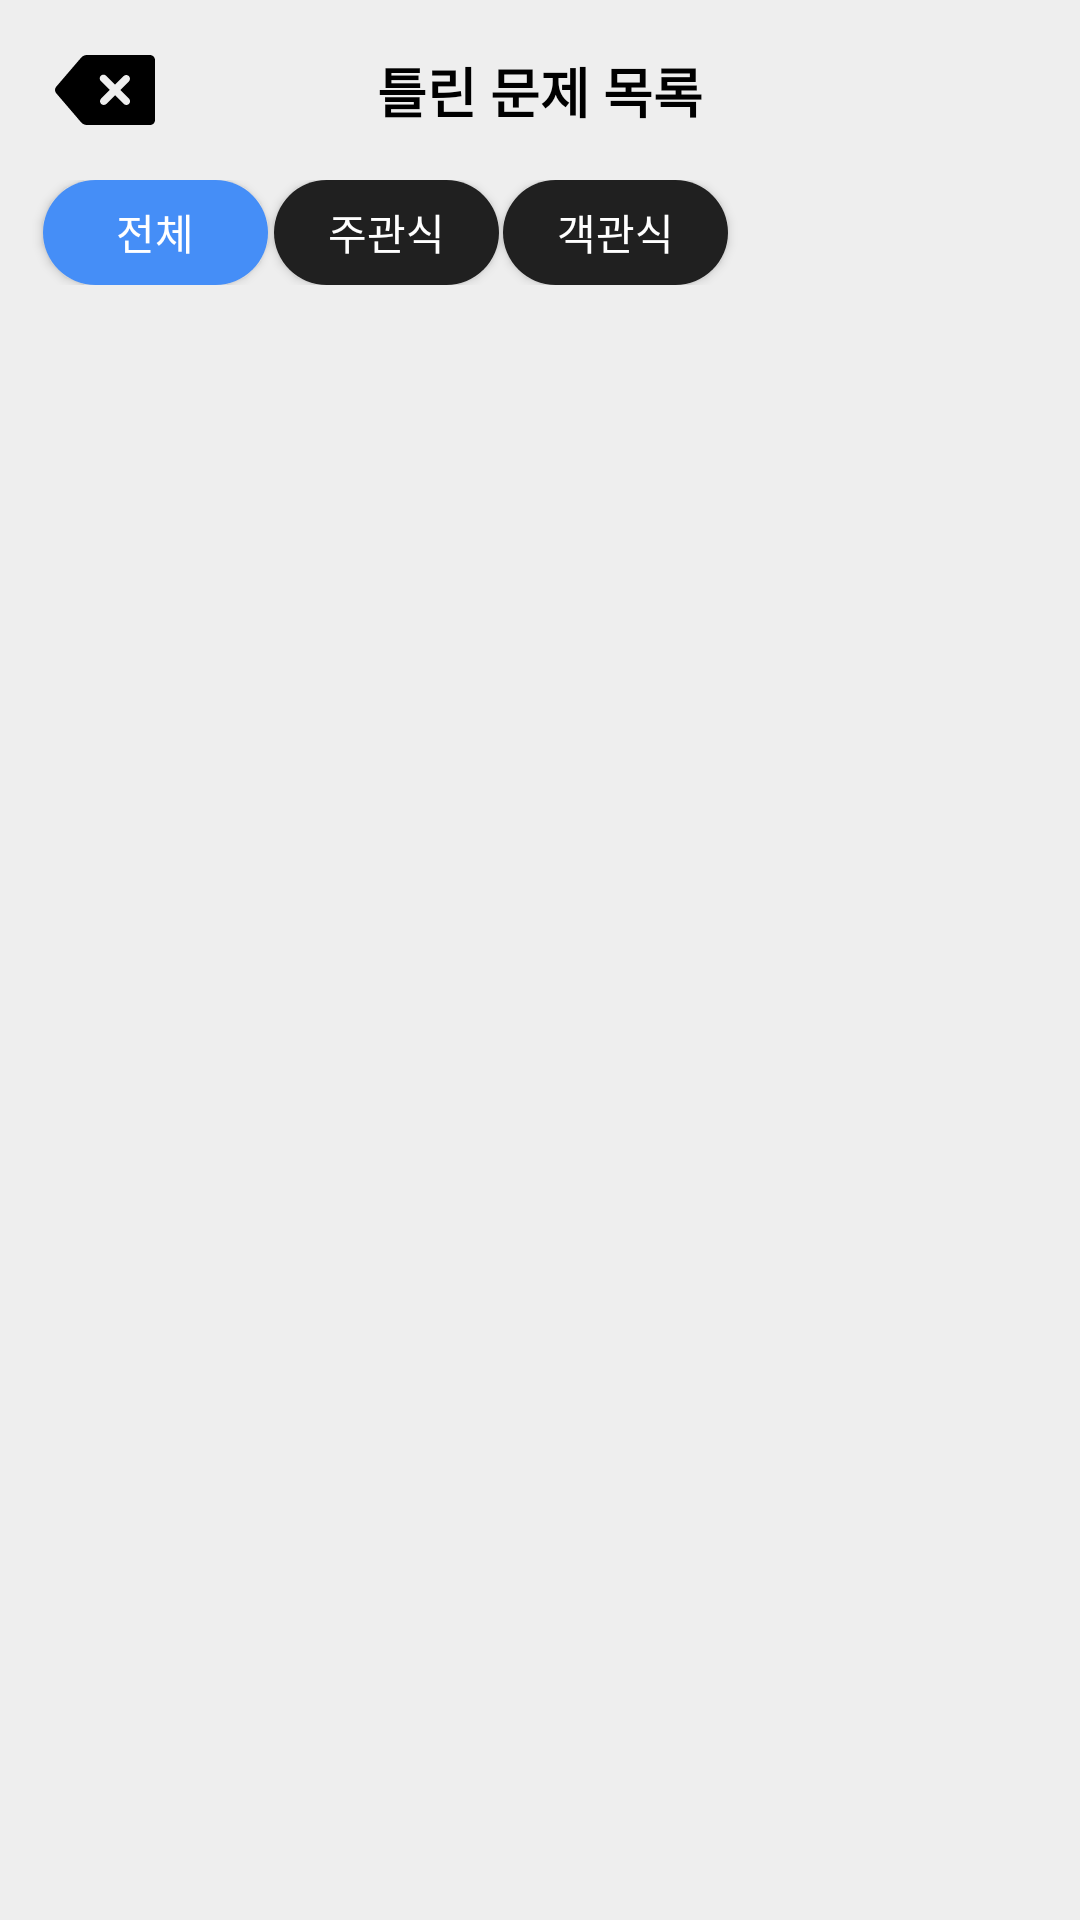

Icons on this 1080 × 1920 Android screen, each with the point to tap as (x=x, y=y):
iconmonstr backspace: (x=105, y=90)
